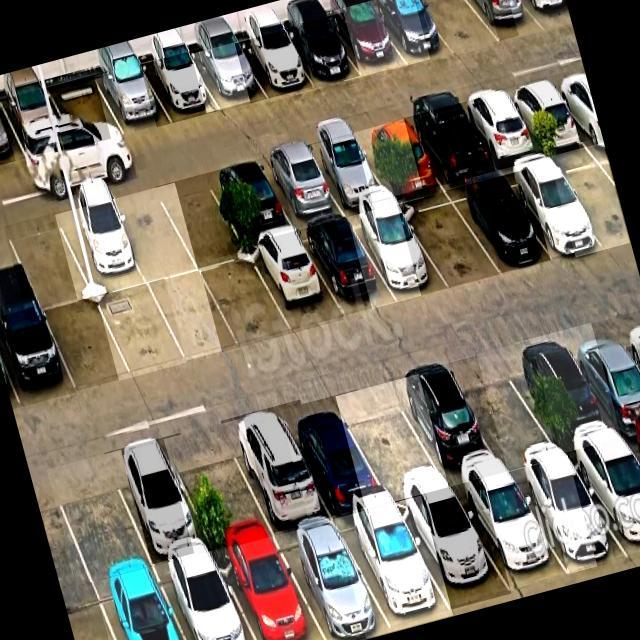empty: (449, 348, 561, 469), (164, 427, 274, 549), (335, 382, 448, 498), (48, 454, 151, 581), (398, 192, 500, 287), (156, 173, 248, 270), (4, 214, 92, 308), (109, 189, 197, 283), (97, 284, 186, 376), (549, 145, 629, 247), (149, 271, 240, 360), (44, 298, 131, 390), (201, 258, 291, 345), (48, 75, 125, 145), (417, 0, 499, 55)
occupied: (335, 503, 453, 632), (389, 363, 507, 486), (273, 521, 390, 640), (510, 456, 628, 573), (395, 489, 511, 608), (453, 472, 568, 591), (222, 407, 331, 532), (105, 440, 211, 563), (279, 397, 388, 516), (515, 332, 621, 451), (213, 536, 326, 640), (499, 158, 604, 257), (447, 177, 549, 272), (248, 231, 343, 332), (298, 217, 396, 314), (348, 205, 448, 298), (567, 437, 640, 563), (156, 551, 255, 640), (564, 321, 640, 435), (55, 201, 146, 296), (0, 307, 75, 406), (206, 159, 294, 241), (404, 105, 495, 184), (94, 566, 185, 640), (258, 147, 343, 225), (304, 134, 390, 210), (354, 120, 442, 194), (458, 90, 542, 165), (327, 1, 407, 76), (504, 78, 586, 151), (281, 17, 360, 86), (94, 65, 172, 134), (141, 55, 220, 122), (0, 87, 75, 157), (371, 0, 453, 64), (235, 32, 313, 97), (191, 44, 265, 109), (470, 0, 544, 40), (0, 102, 26, 165), (523, 0, 571, 28)
